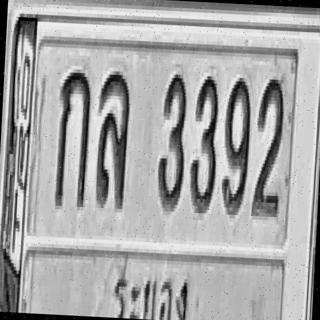A01: (54, 67, 92, 209)
A36: (94, 69, 132, 208)
N02: (251, 76, 285, 218)
N03: (188, 72, 221, 214), (156, 70, 188, 212)
N09: (221, 74, 253, 216)
P53: (104, 262, 192, 320)
